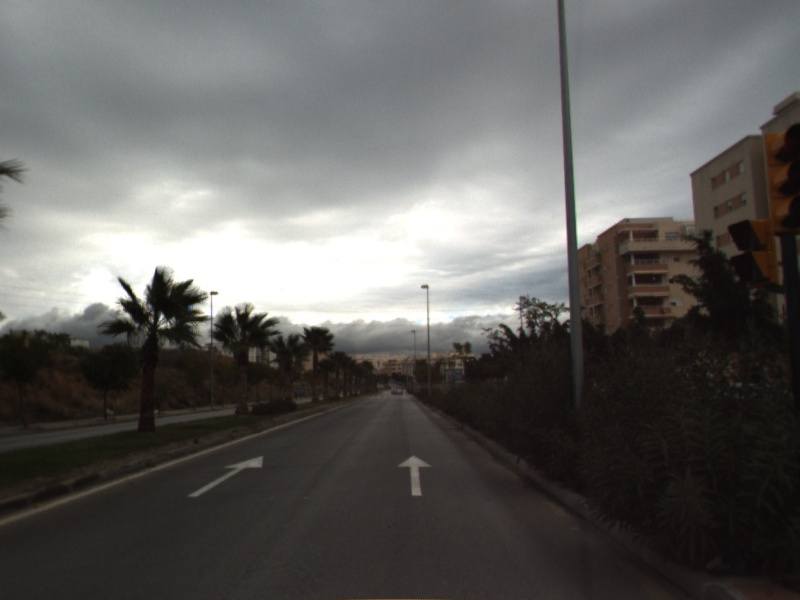STRAIGHT: (186, 454, 265, 499), (396, 453, 434, 498)
